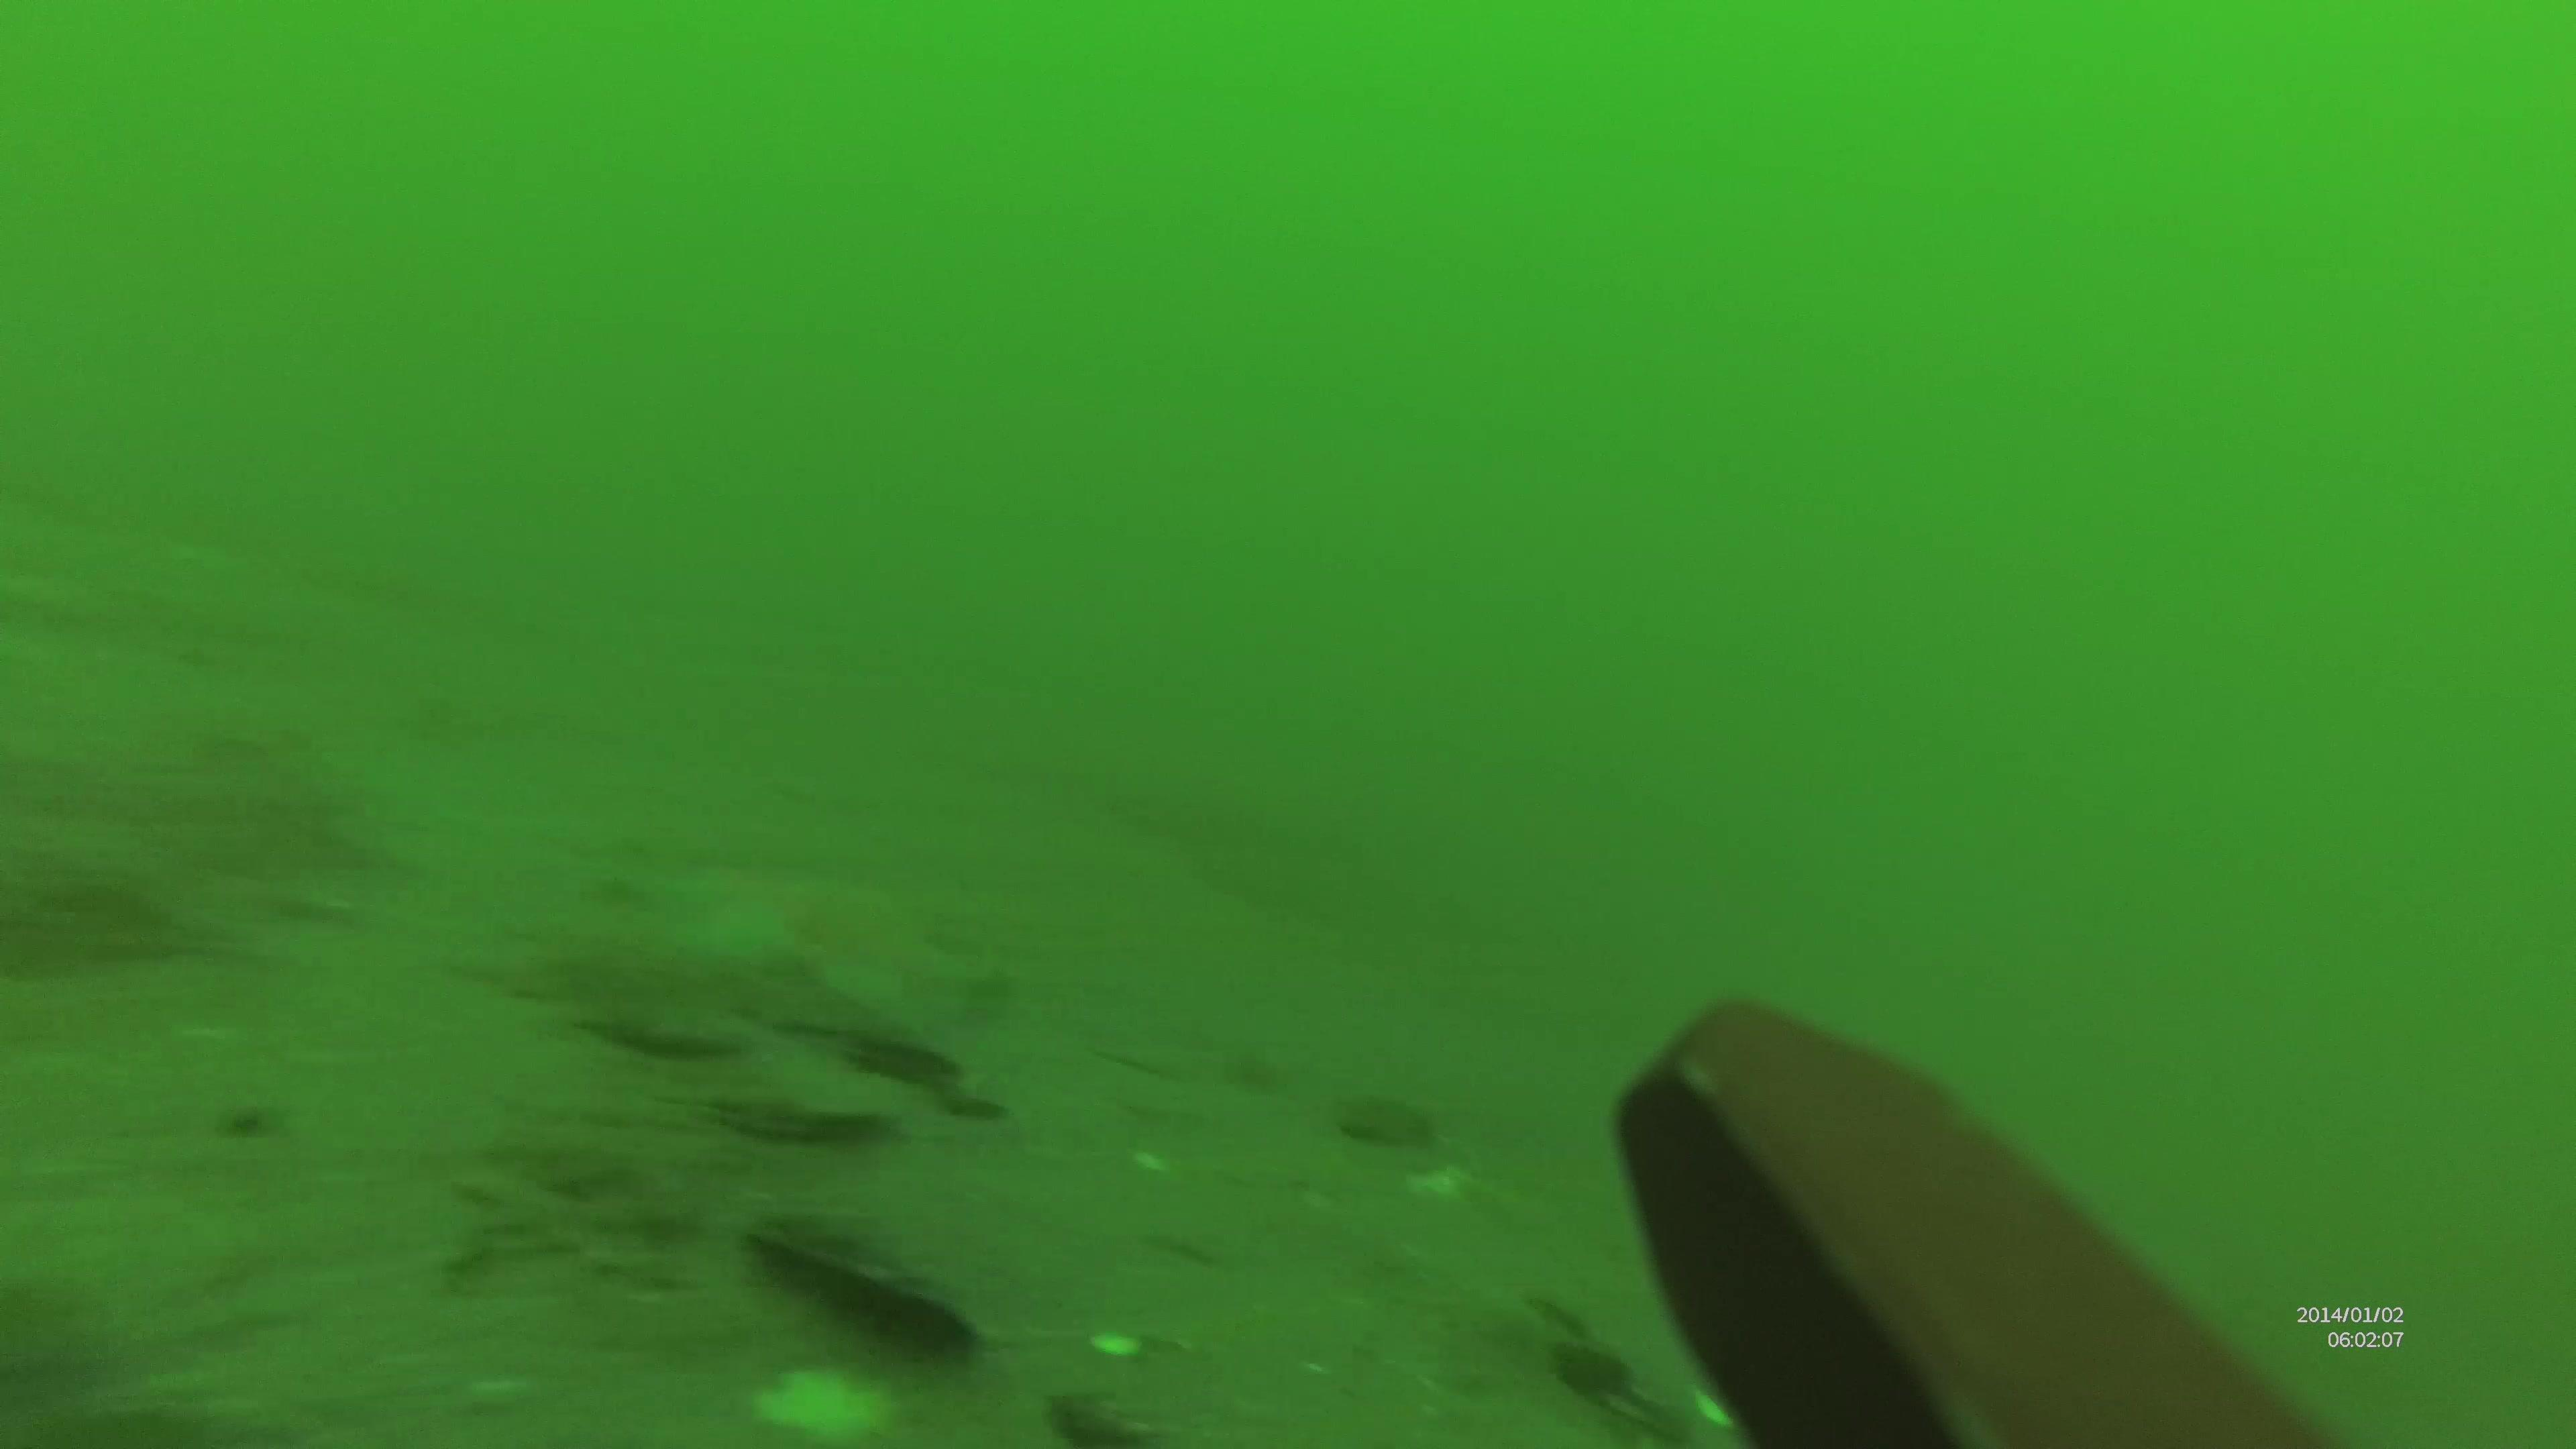echinus: (1552, 1341, 1649, 1401)
scallop: (580, 993, 766, 1070), (715, 1079, 895, 1155), (761, 1369, 899, 1445)
